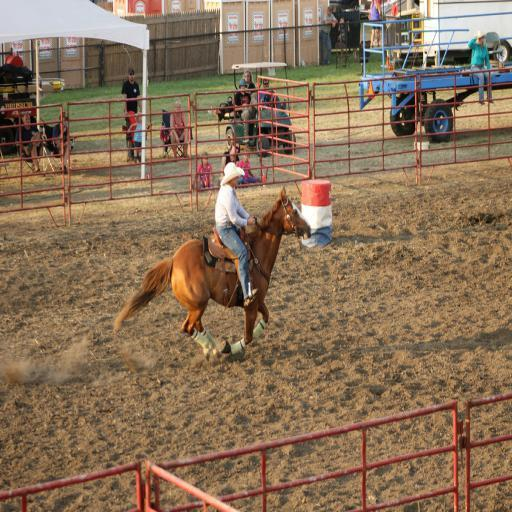horse: (110, 184, 311, 360)
